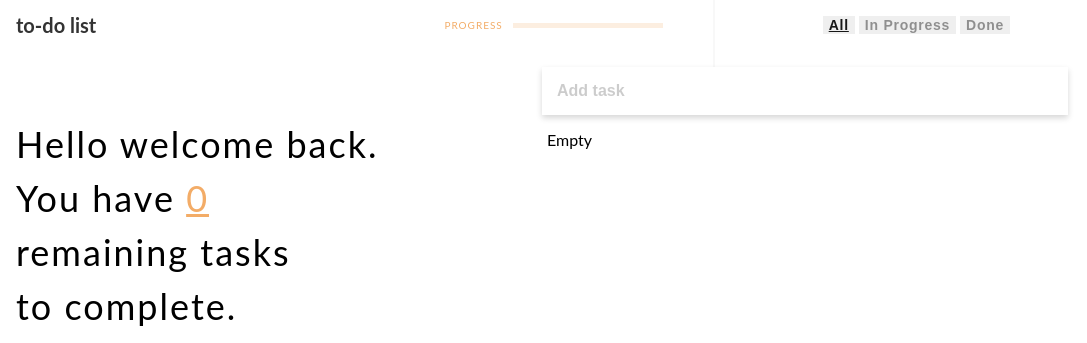
todo app › As a user i can change todo status
This screenshot has width=1087, height=343.
Type "Have a lunch" into the field with test id "todo-input". click: (805, 91)
box: [542,67,1068,115]
Then press Enter
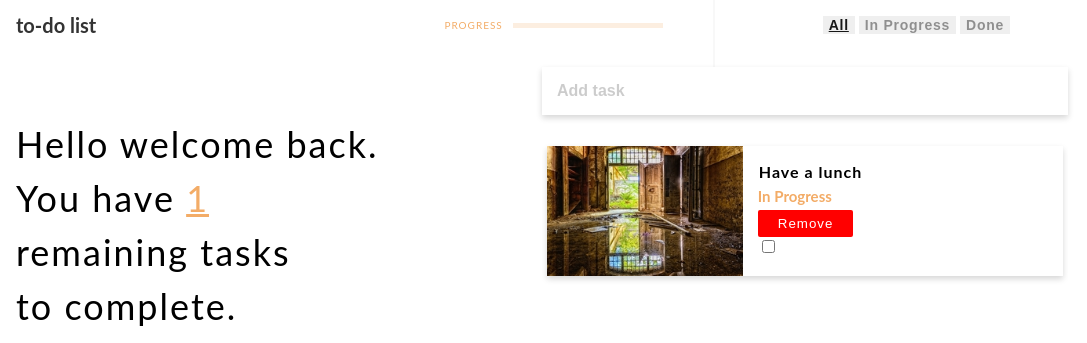
Check the checkbox with test id "checked-btn". click: (769, 247)
box: [762,240,775,253]
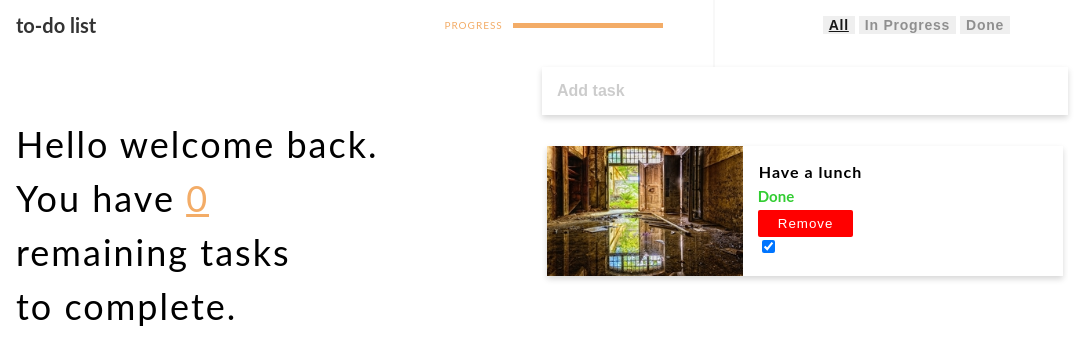
Check: the checkbox with test id "checked-btn" is checked
Check: the text "Done" is shown, box [758,187,794,205]
Uncheck the checkbox with test id "checked-btn". click: (769, 247)
box: [762,240,775,253]
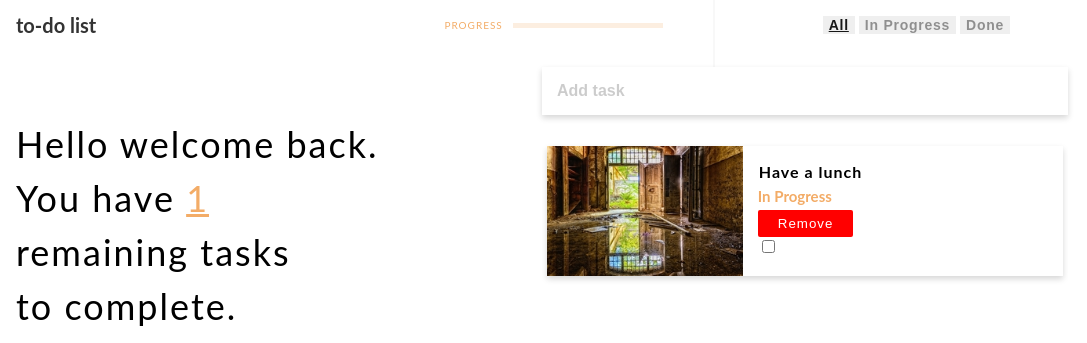
Check: the text "In Progress" is shown, box [758,187,832,205]
